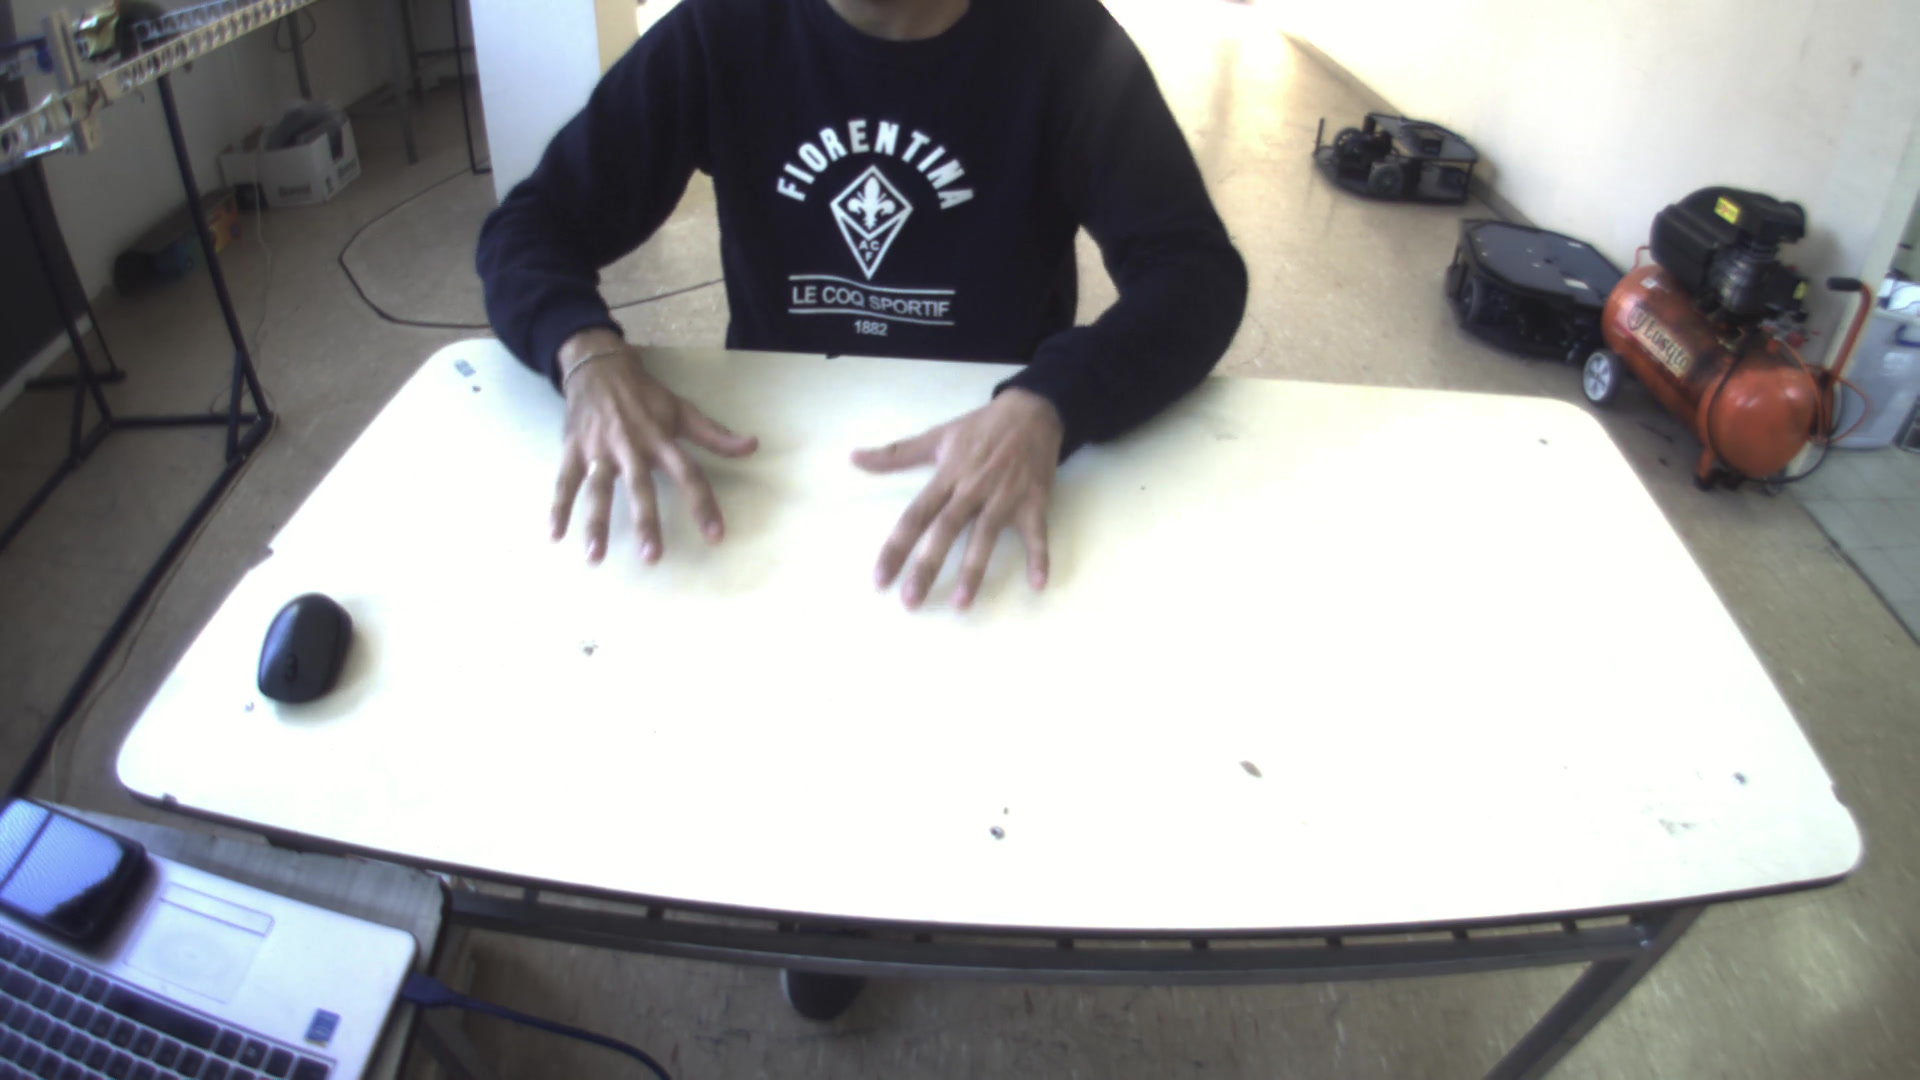hand: (527, 336, 766, 571), (844, 378, 1075, 621)
